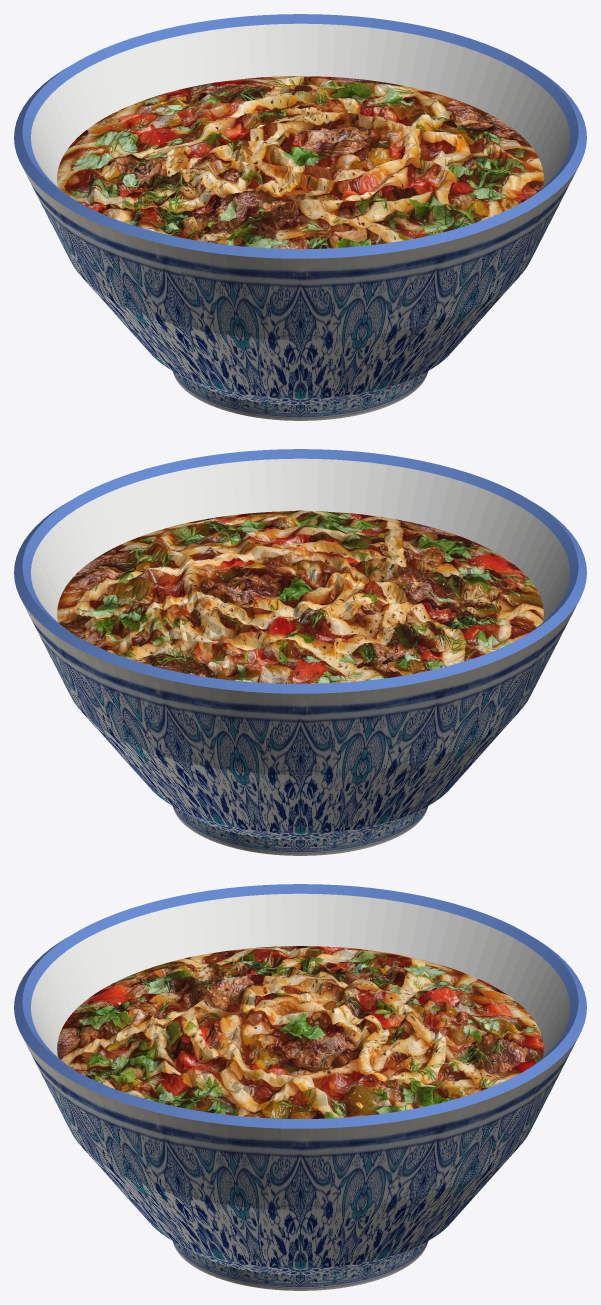
File: lagmon.glb
The picture shows the model from 3 angles, top to bottom: view 1: azimuth 30°, elevation 25°; view 2: azimuth 150°, elevation 25°; view 3: azimuth 270°, elevation 25°; orthographic projection.
Visible parts, largest first — view 1: lagmon_4, lagmon_0, lagmon_2, lagmon_1; view 2: lagmon_4, lagmon_0, lagmon_2, lagmon_1; view 3: lagmon_4, lagmon_0, lagmon_2, lagmon_1.
Boxes of the visible parts, x1,y1,x2,y2 form: lagmon_4: (57,76,543,248); lagmon_0: (20,163,580,420); lagmon_2: (31,23,569,186); lagmon_1: (14,14,586,258); lagmon_4: (57,510,543,683); lagmon_0: (20,598,580,855); lagmon_2: (31,458,569,621); lagmon_1: (14,449,586,693); lagmon_4: (57,946,543,1118); lagmon_0: (20,1033,580,1290); lagmon_2: (31,893,569,1056); lagmon_1: (14,884,586,1128).
Bounding box in the file's own units: 0.17 × 0.077 × 0.17.
5 materials, 2 textured.
